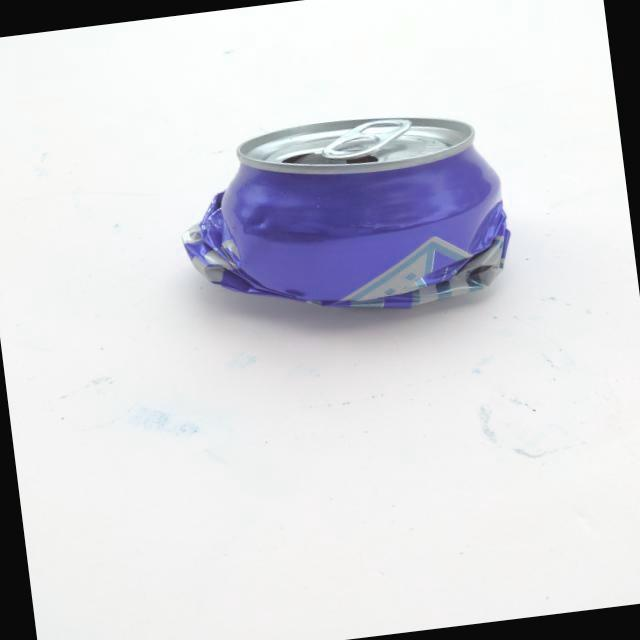metal: (154, 87, 532, 346)
